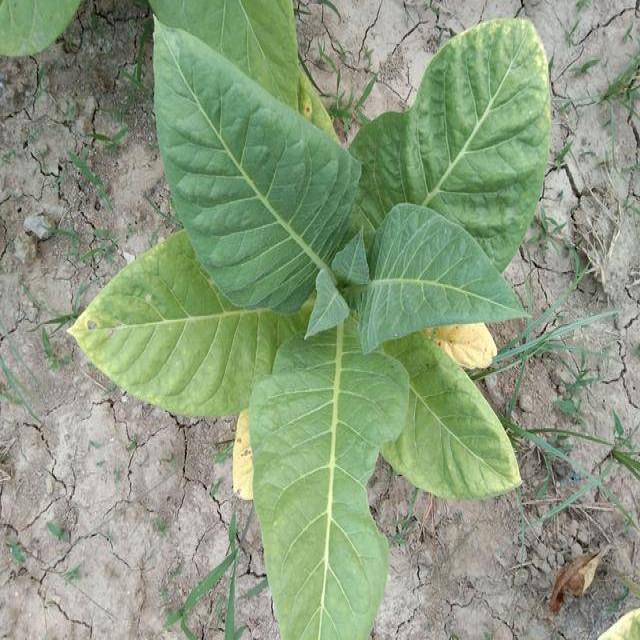crop: (85, 20, 553, 640)
